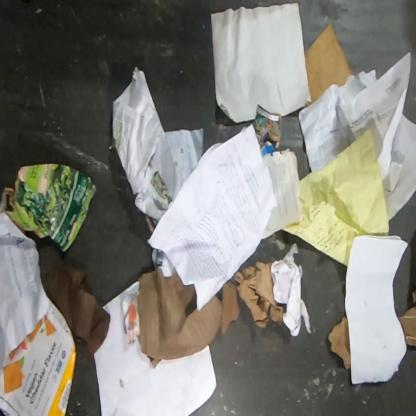cardboard: (0, 162, 97, 254), (0, 302, 77, 415), (305, 22, 352, 104), (328, 317, 350, 370), (397, 290, 415, 347)
